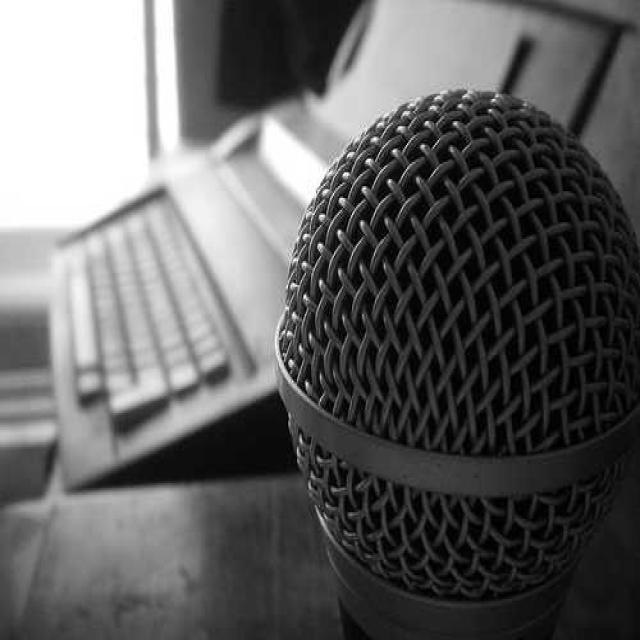microphone: (280, 91, 638, 623)
